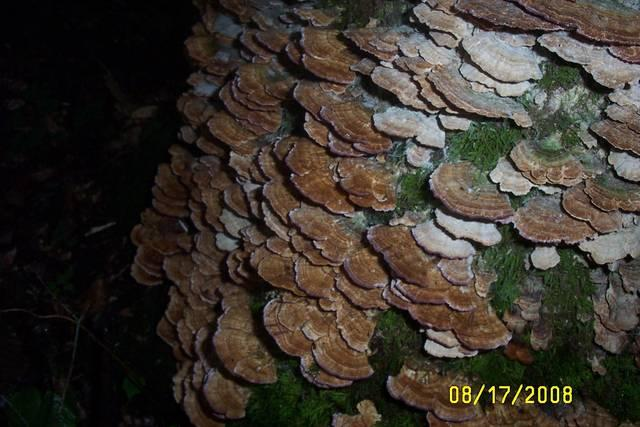Non-edible Mushroom: (128, 0, 637, 425)
